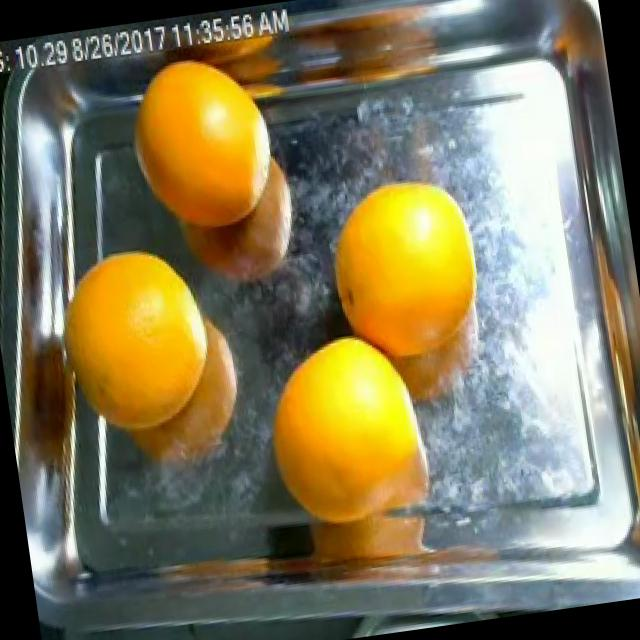Fruit: (237, 306, 446, 550), (300, 151, 500, 379), (104, 35, 288, 261), (37, 602, 79, 640)
